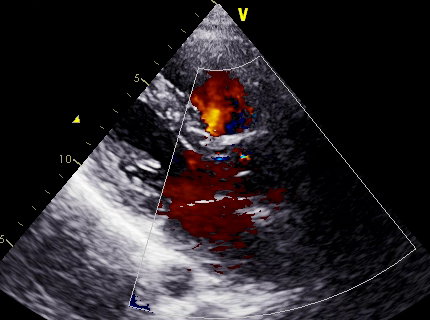AR: (179, 141, 267, 205)
